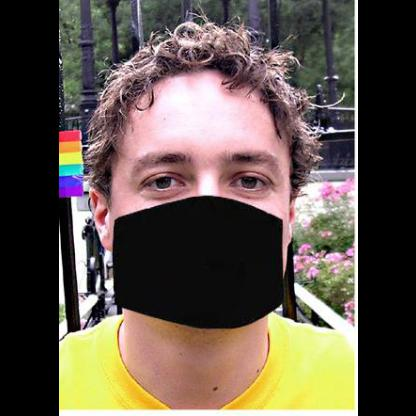Fabric/Cloth Mask: (99, 128, 293, 318)
